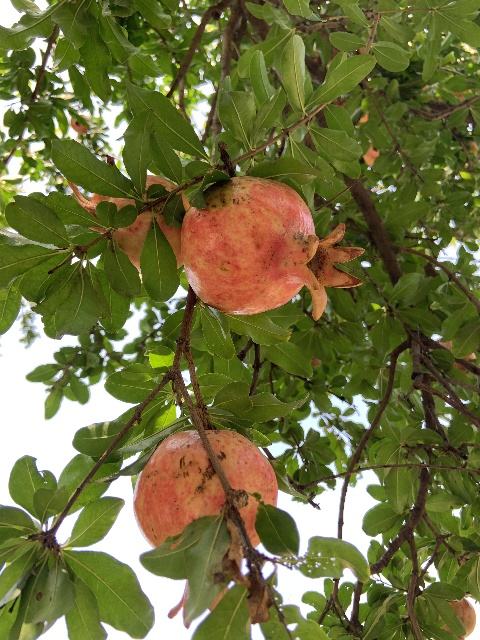ripe: (133, 429, 278, 628), (180, 176, 366, 320), (67, 174, 190, 274), (438, 597, 476, 640)
